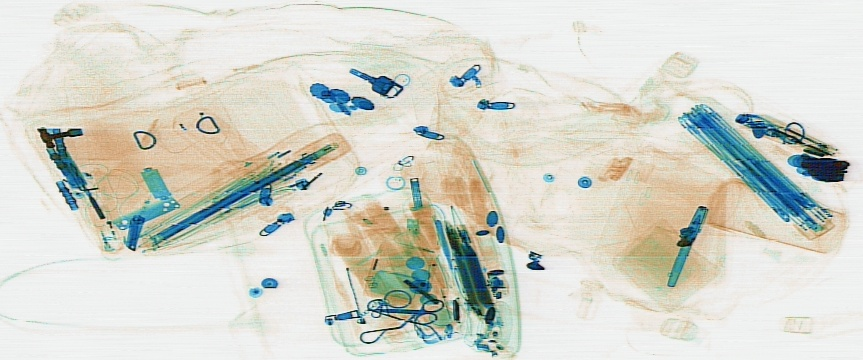lighter: (81, 184, 121, 256)
scissors: (374, 296, 445, 327)
